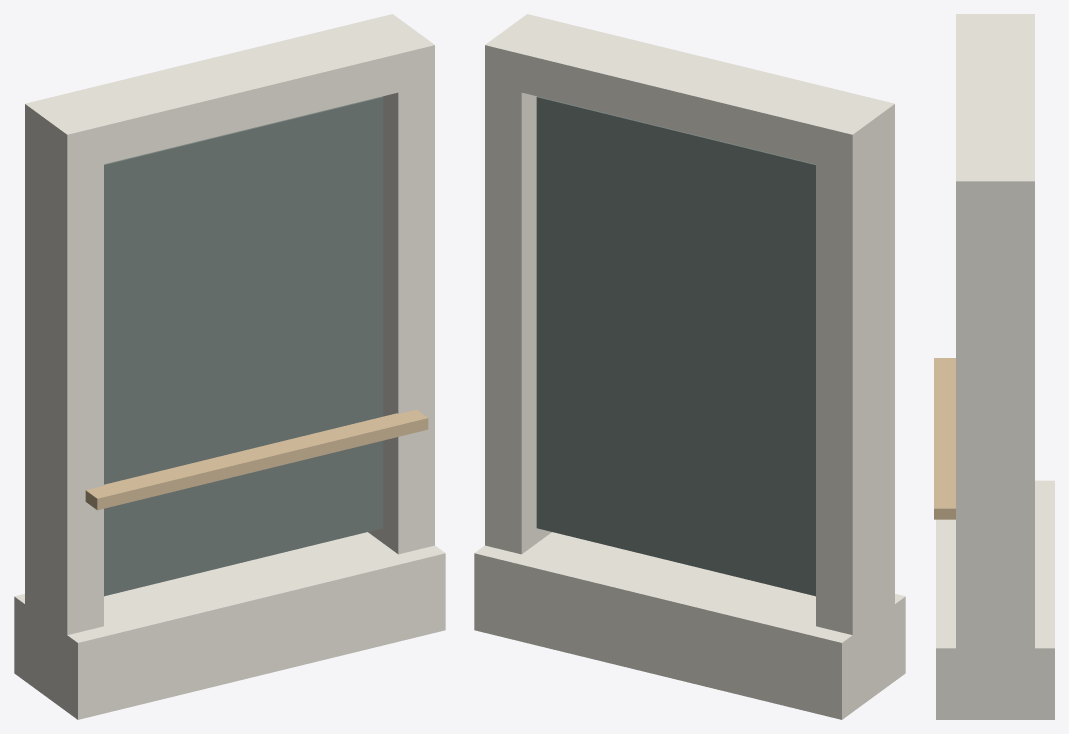
File: ViewingWall.fbx
3 renders of one model, left to right at view 1: azimuth 30°, elevation 25°; view 2: azimuth 150°, elevation 25°; view 3: azimuth 270°, elevation 25°, orthographic. The views are drawn at different scales.
Visible parts, largest first — view 1: ViewingWall_GlassFrame, ViewingWall_Footing, ViewingWall_Pillar_L, ViewingWall_Beam_Top, ViewingWall_Pillar_R, Visitor_Lean_Rail; view 2: ViewingWall_GlassFrame, ViewingWall_Footing, ViewingWall_Pillar_L, ViewingWall_Beam_Top, ViewingWall_Pillar_R; view 3: ViewingWall_Pillar_R, ViewingWall_Beam_Top, ViewingWall_Footing, Visitor_Lean_Rail, ViewingWall_Pillar_L.
Boxes of the visible parts, box(x1,y1,x2,y2) form: ViewingWall_GlassFrame: box(104, 96, 383, 596); ViewingWall_Footing: box(14, 532, 445, 719); ViewingWall_Pillar_L: box(25, 95, 103, 634); ViewingWall_Beam_Top: box(25, 14, 434, 173); ViewingWall_Pillar_R: box(356, 14, 434, 554); Visitor_Lean_Rail: box(85, 409, 428, 510); ViewingWall_GlassFrame: box(536, 96, 815, 596); ViewingWall_Footing: box(474, 532, 905, 719); ViewingWall_Pillar_L: box(816, 95, 894, 634); ViewingWall_Beam_Top: box(485, 14, 894, 173); ViewingWall_Pillar_R: box(485, 14, 563, 554); ViewingWall_Pillar_R: box(956, 170, 1034, 648); ViewingWall_Beam_Top: box(956, 14, 1034, 217); ViewingWall_Footing: box(936, 480, 1054, 719); Visitor_Lean_Rail: box(934, 358, 955, 519); ViewingWall_Pillar_L: box(956, 14, 1034, 30).
Bounding box in the file's own units: 200 × 300 × 61.
